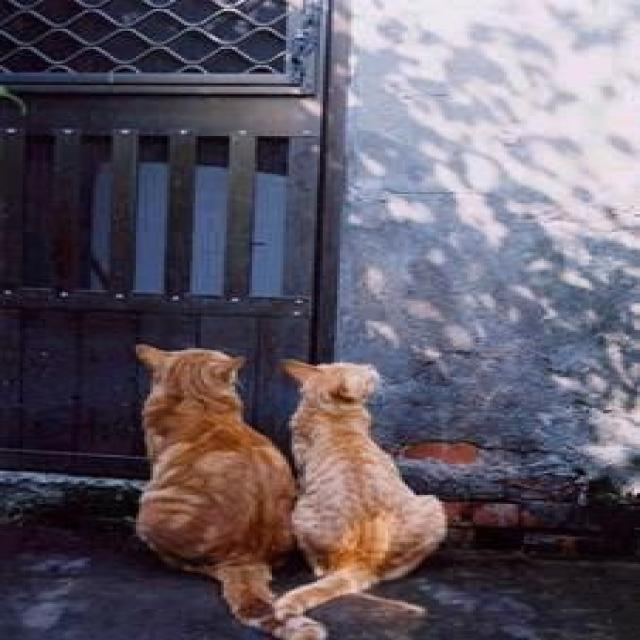cat: (131, 344, 327, 639), (279, 357, 449, 640)
